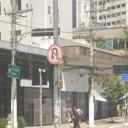NoVirarU: (47, 44, 63, 64)
